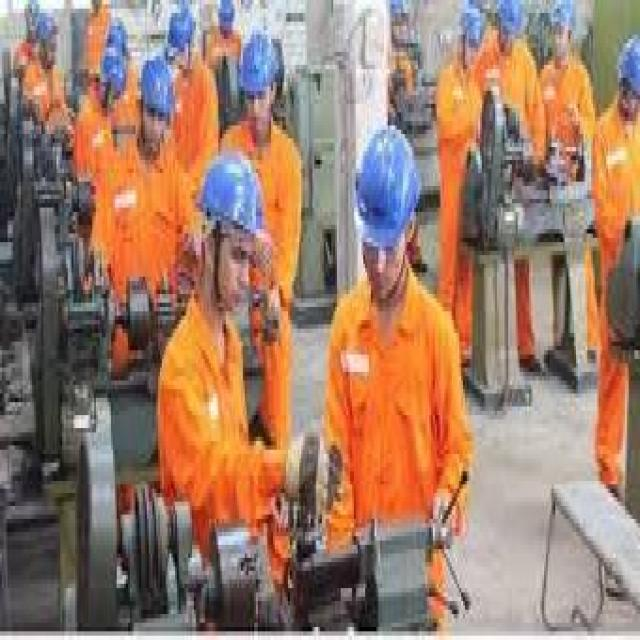Reflective-Jacket: (316, 272, 465, 580), (149, 298, 275, 588), (211, 121, 314, 359), (111, 134, 190, 324), (72, 78, 134, 259), (589, 104, 640, 264), (168, 52, 220, 199), (4, 34, 66, 142), (431, 48, 488, 164)
Safety-Helmet: (343, 108, 427, 264), (188, 142, 275, 276), (233, 17, 290, 108), (134, 44, 180, 125), (160, 0, 201, 65), (613, 25, 640, 112), (28, 0, 64, 52), (491, 0, 535, 35), (542, 0, 582, 35), (211, 0, 241, 35)
